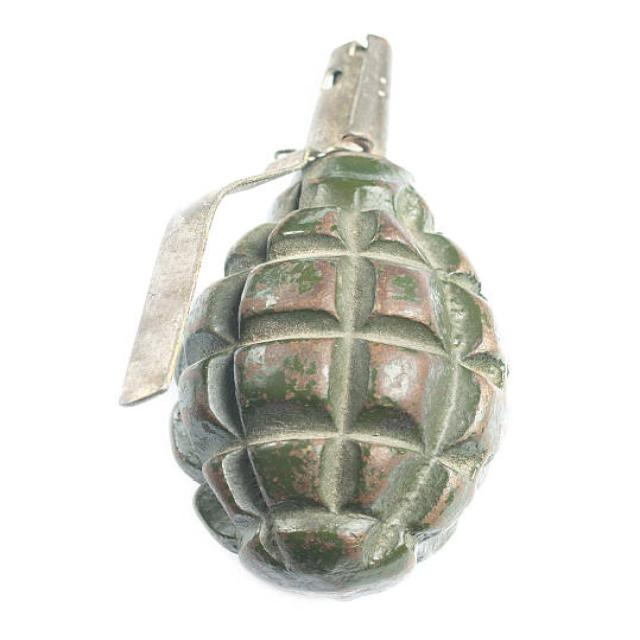grenade: (110, 29, 516, 604)
